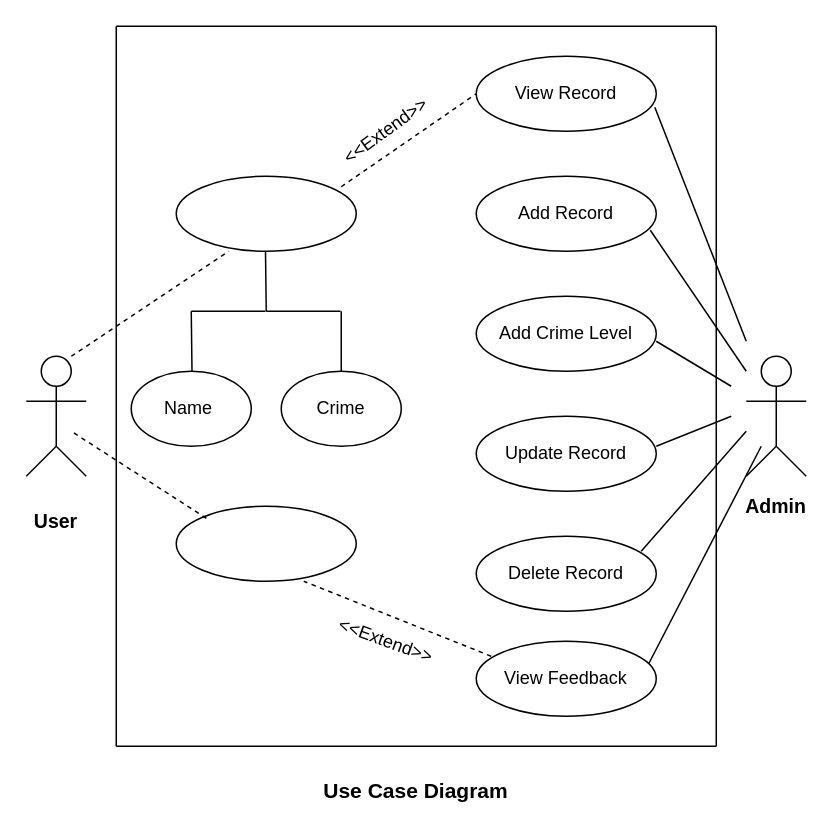
Some shapes in this 834 by 833 pixel diagram are drawn without their labels. The shapes that lost their labels are listed below. From the top down, each one's centre as x and y in pixels, then its label:
point 265,213: Search
point 265,543: Feedback
